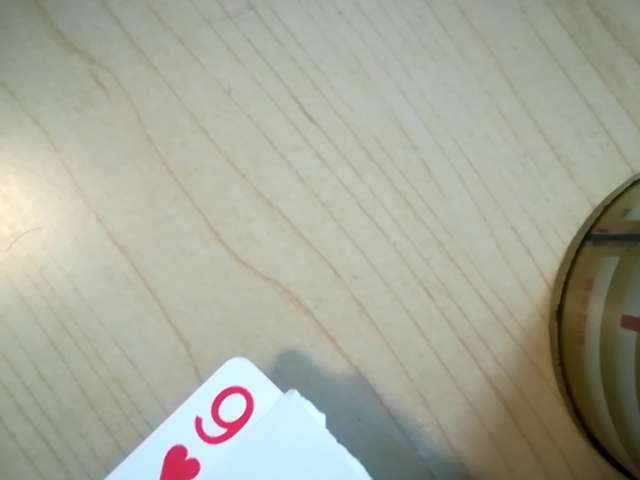hx 9: (172, 380, 267, 467)
